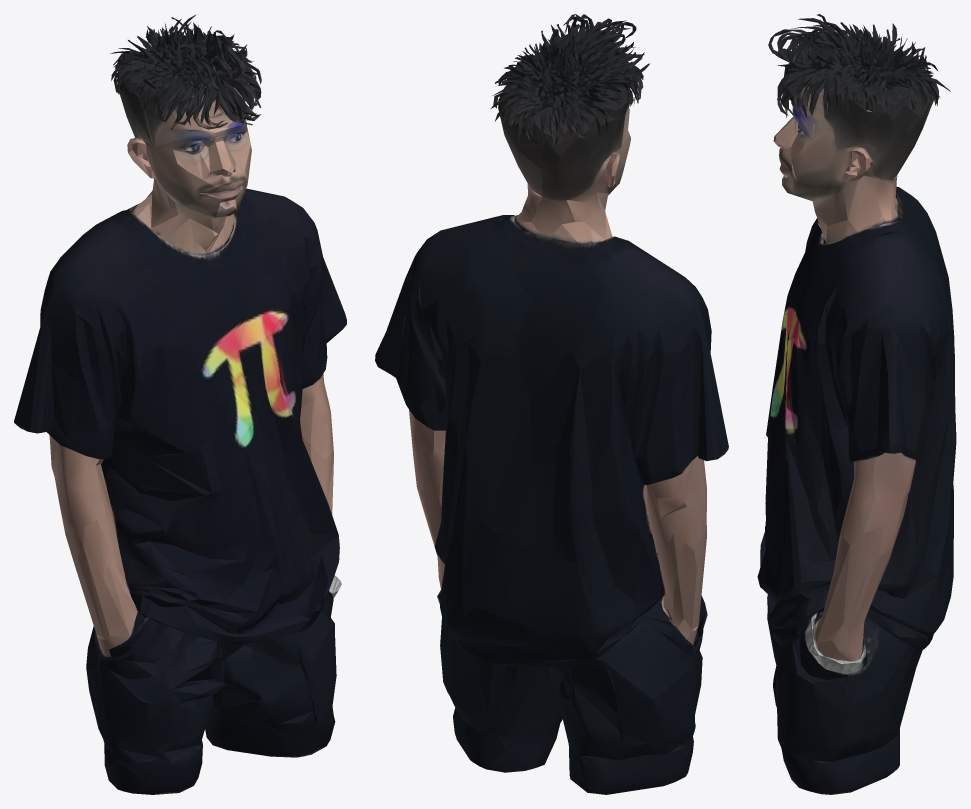
The model's file is avatar.glb.
3 views of the same model, side by side, from view 1: azimuth 30°, elevation 25°; view 2: azimuth 150°, elevation 25°; view 3: azimuth 270°, elevation 25° (orthographic). The views are drawn at different scales.
Visible parts, largest first — view 1: output_unwrapped; view 2: output_unwrapped; view 3: output_unwrapped.
Boxes of the visible parts, x1,y1,x2,y2 form: output_unwrapped: [14, 14, 346, 794]; output_unwrapped: [375, 14, 728, 794]; output_unwrapped: [757, 14, 956, 794].
Bounding box in the file's own units: 0.9107 × 1.9 × 0.479.
1 material, 1 textured.
